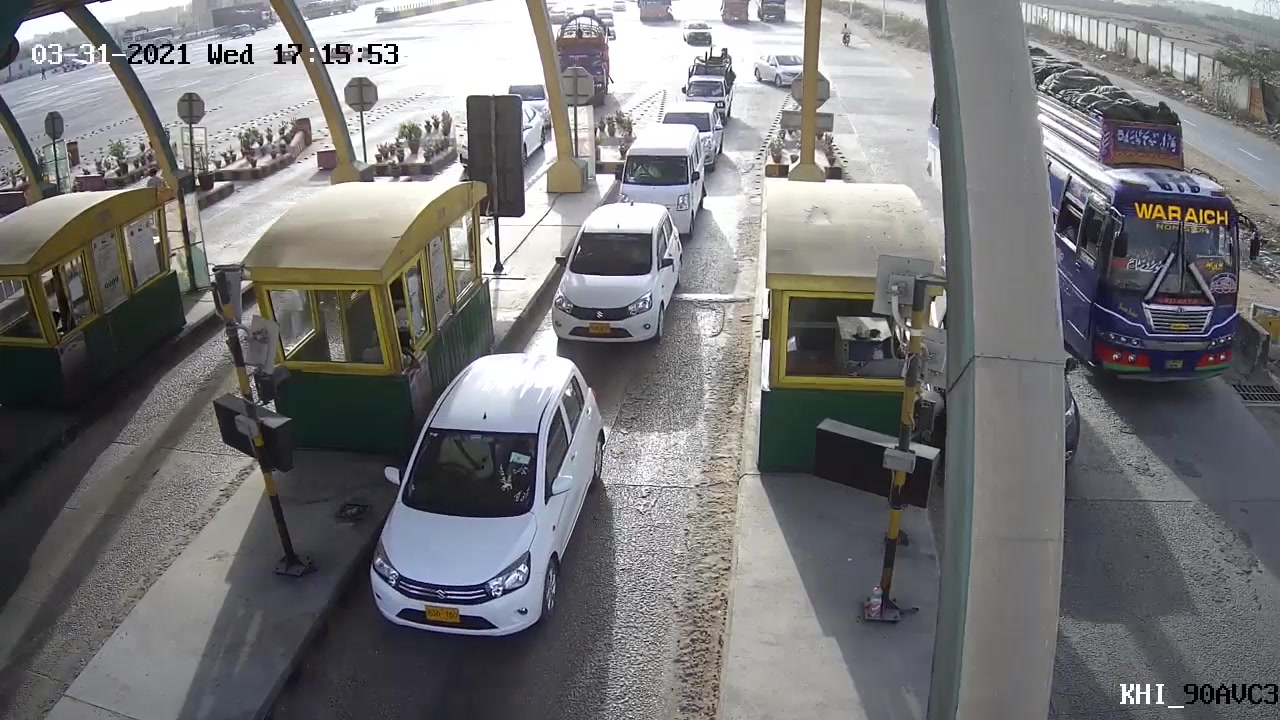F1: (347, 347, 618, 664), (547, 204, 686, 349)
